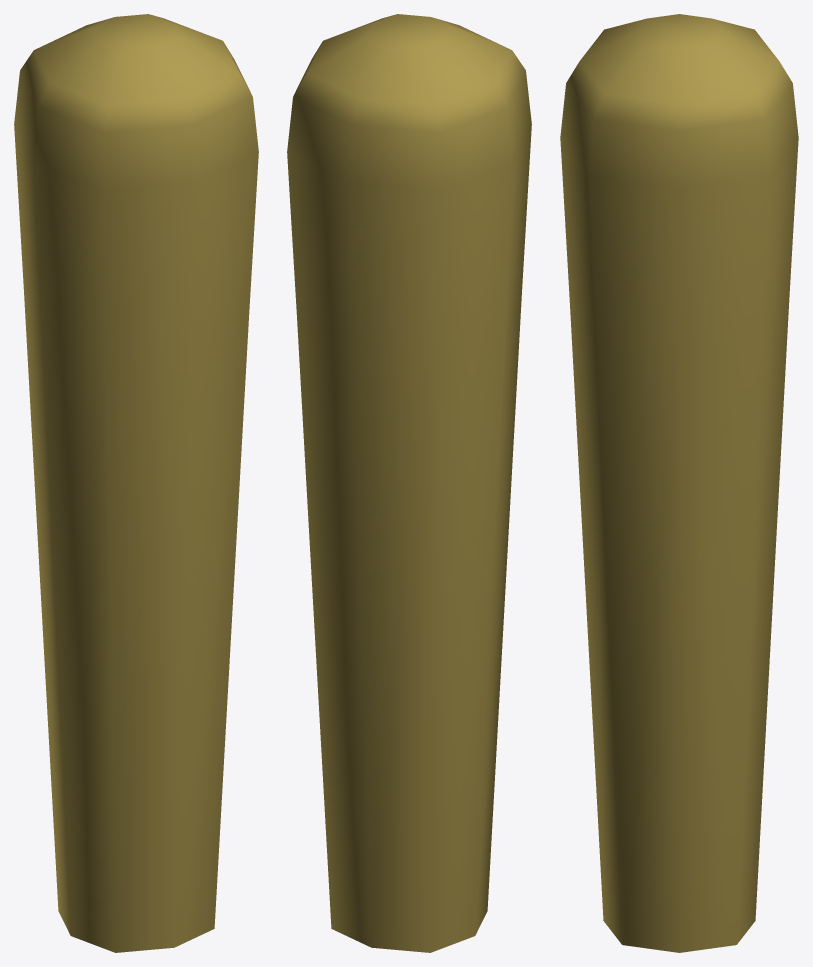
Rendered from WoodPost.fbx.
3 views of the same model, side by side, from view 1: azimuth 30°, elevation 25°; view 2: azimuth 150°, elevation 25°; view 3: azimuth 270°, elevation 25° (orthographic).
Visible parts, largest first — view 1: Wood_Post; view 2: Wood_Post; view 3: Wood_Post.
Part boxes in pixels (left/top/right/bottom): Wood_Post: left=14, top=14, right=258, bottom=952; Wood_Post: left=287, top=14, right=531, bottom=952; Wood_Post: left=560, top=14, right=798, bottom=952.
Size of the model in its own units: 0.2701 by 1.11 by 0.2701.
